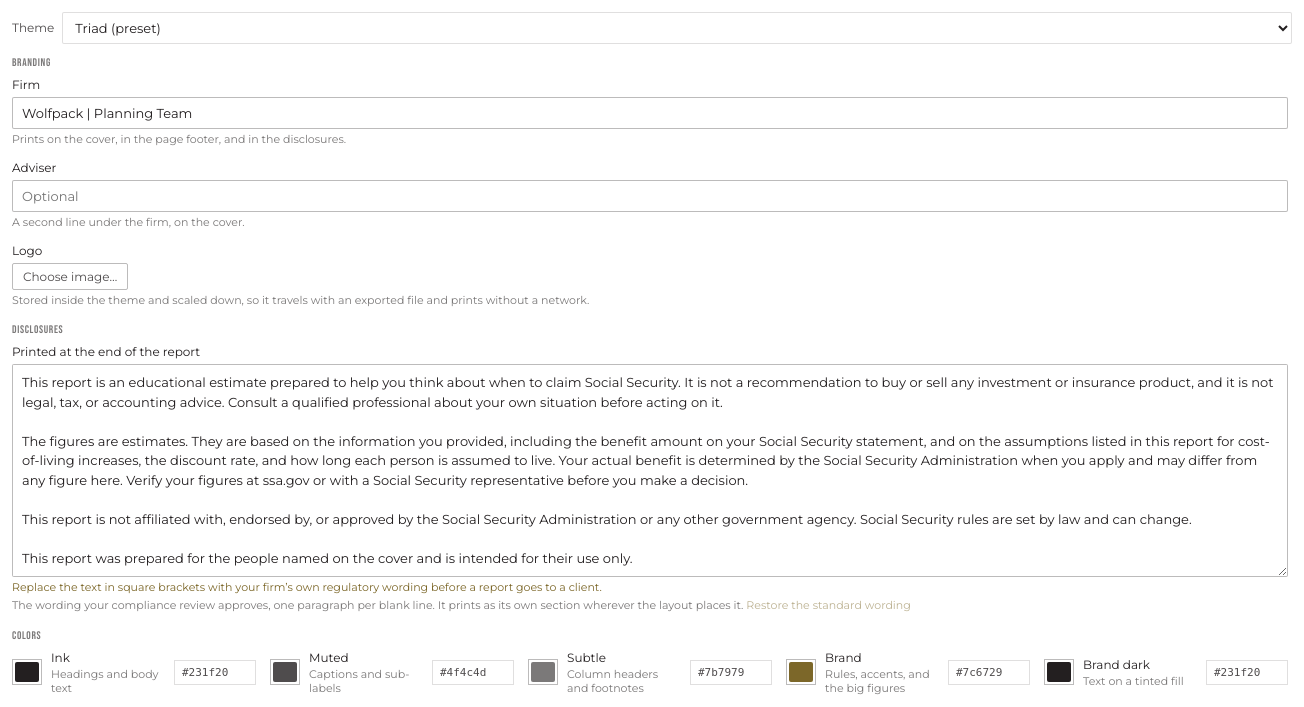
Test: ReportThemeEditor › will not write an edit back into a preset
Type "!" into the field labelled "Firm" at (650, 113), box [12, 97, 1288, 129]
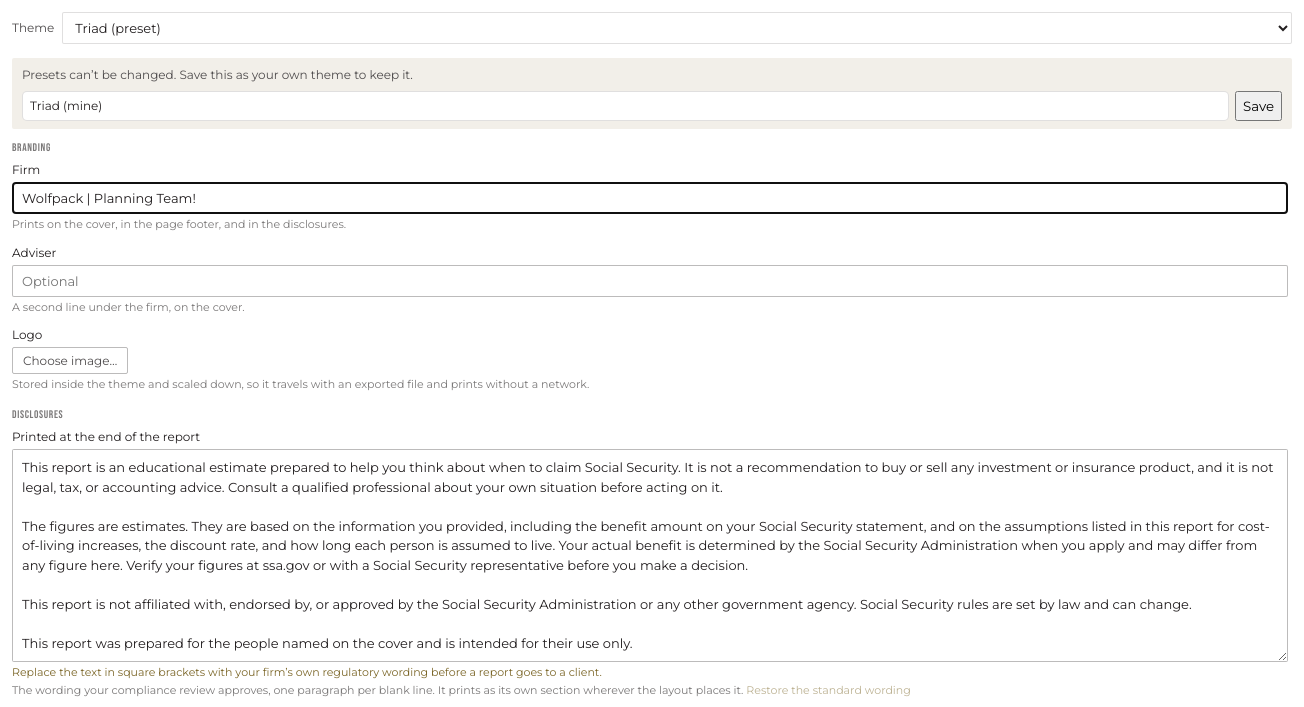
expect the text "Presets can’t be changed" is shown: met, box [22, 67, 413, 82]
